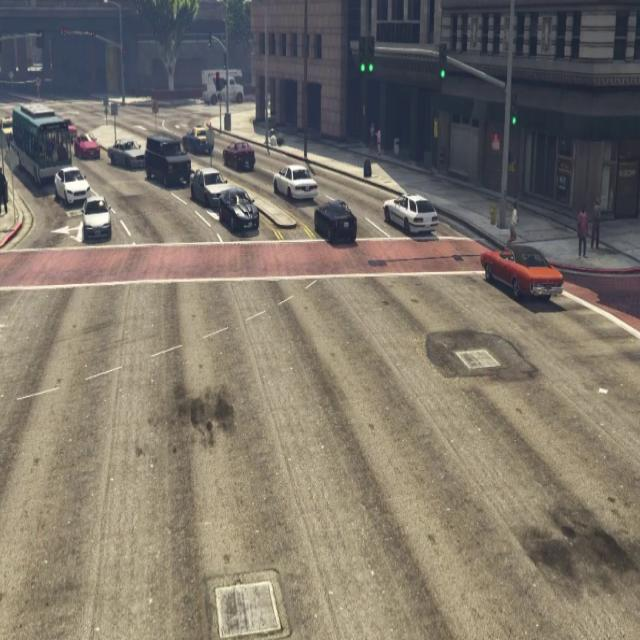Green-Signal: (352, 27, 385, 104), (504, 80, 525, 144), (434, 38, 454, 98)
